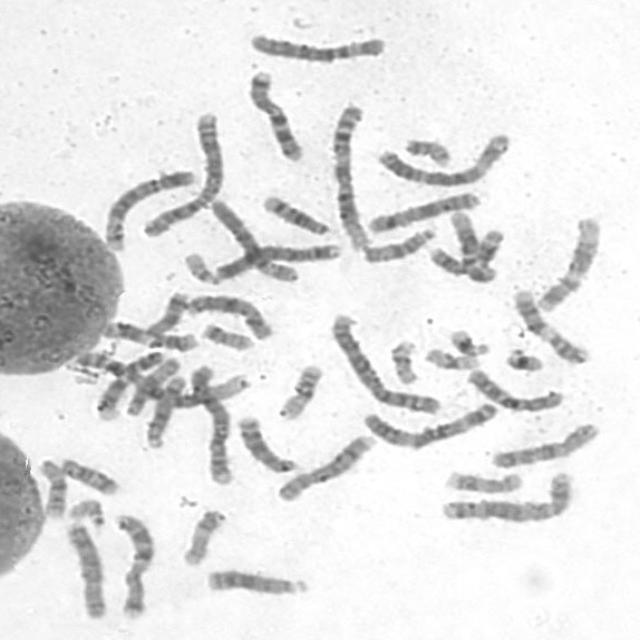A1: (67, 344, 255, 410), (324, 97, 376, 252)
A2: (324, 306, 446, 416), (137, 105, 228, 237)
A3: (370, 125, 515, 188), (357, 396, 502, 450)
B4: (182, 358, 238, 487), (208, 236, 346, 283)
B5: (97, 163, 200, 253), (436, 466, 576, 524)
C10: (485, 415, 604, 470), (460, 362, 568, 413)
C11: (424, 223, 507, 279), (96, 313, 201, 352)
C12: (531, 209, 605, 313), (444, 205, 502, 282)
C6: (205, 191, 303, 284), (243, 26, 390, 64)
C7: (241, 63, 308, 164), (107, 506, 157, 622)
C8: (270, 428, 379, 504), (58, 516, 109, 620)
C9: (89, 347, 176, 424), (89, 344, 170, 424)
D13: (232, 408, 302, 475), (201, 562, 312, 598)
D14: (138, 370, 190, 450), (256, 187, 334, 237)
D15: (119, 350, 185, 417), (356, 219, 439, 264)
E16: (271, 357, 327, 421), (33, 452, 70, 520)
E17: (175, 502, 228, 568), (438, 464, 526, 495)
E18: (52, 451, 122, 496), (137, 284, 193, 338)
F19: (383, 333, 422, 386), (418, 342, 484, 372)
F20: (195, 316, 257, 352), (397, 131, 456, 168)
G21: (444, 323, 494, 357), (500, 341, 548, 373)
G22: (177, 244, 221, 286), (60, 493, 108, 530)
X: (361, 186, 483, 234), (180, 288, 276, 342)
